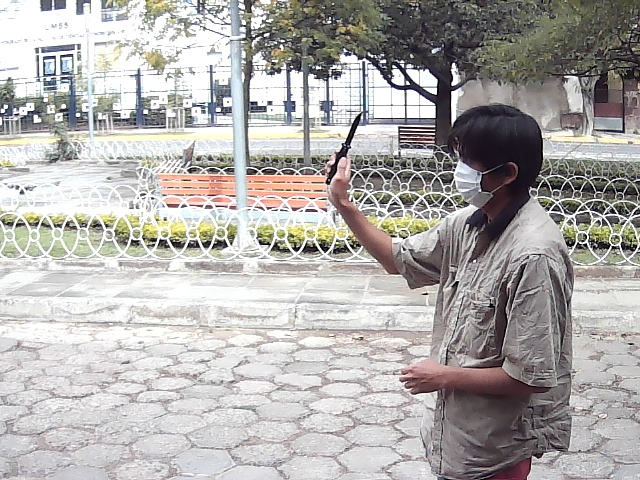cuchillo: (316, 103, 373, 197)
